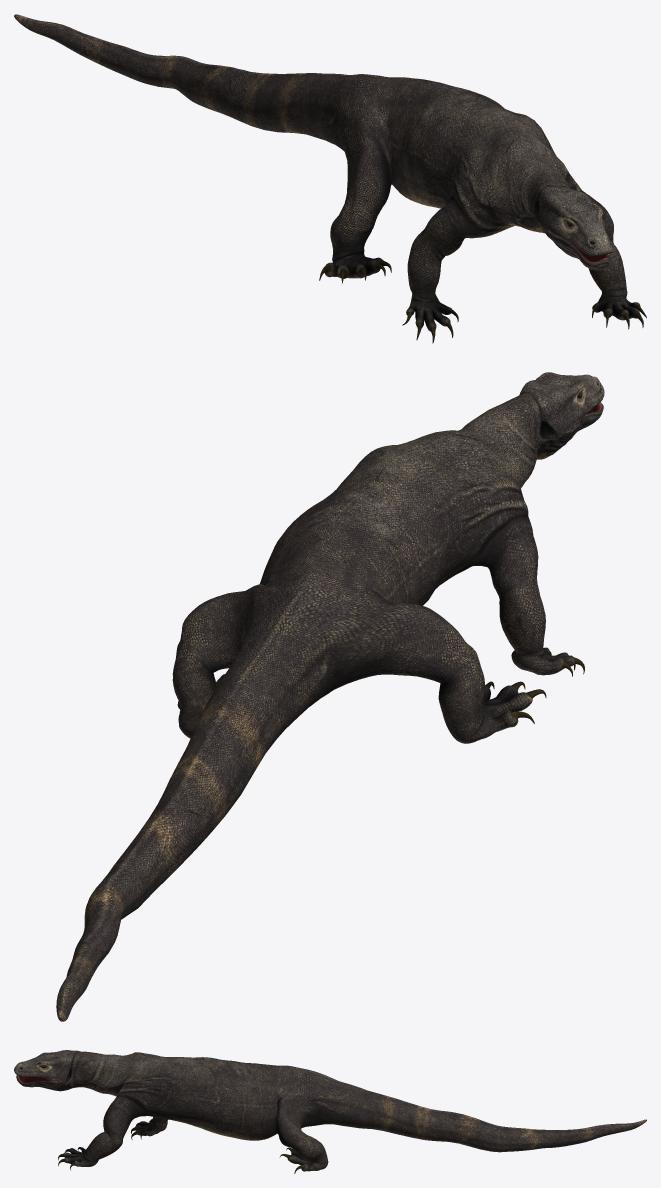
The model's file is komodo.glb.
The picture shows the model from 3 angles, top to bottom: view 1: azimuth 30°, elevation 25°; view 2: azimuth 150°, elevation 25°; view 3: azimuth 270°, elevation 25°; orthographic projection. The views are drawn at different scales.
Visible parts, largest first — view 1: Body; view 2: Body; view 3: Body.
Part boxes in pixels (left/top/right/bottom): Body: left=14, top=14, right=646, bottom=343; Body: left=56, top=372, right=604, bottom=1021; Body: left=14, top=1050, right=646, bottom=1173.
Bounding box in the file's own units: 0.6903 × 0.5075 × 2.68.
1 material, 1 textured.
